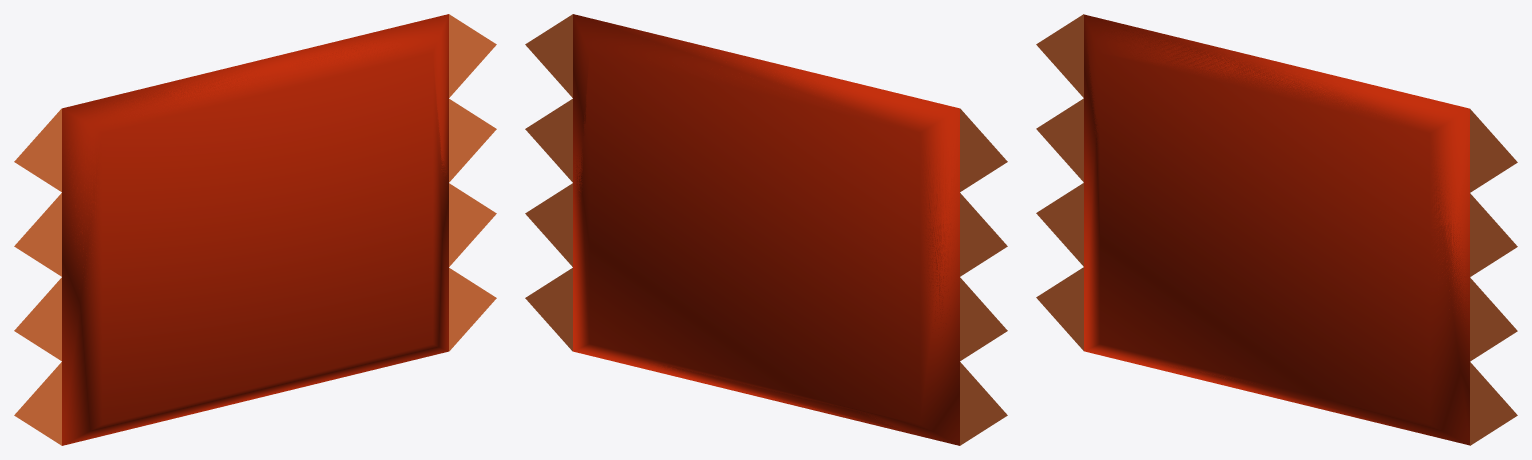
File: soup_smooth.fbx
The picture shows the model from 3 angles, left to right: view 1: azimuth 30°, elevation 25°; view 2: azimuth 150°, elevation 25°; view 3: azimuth 330°, elevation 25°; orthographic projection.
Visible parts, largest first — view 1: soup; view 2: soup; view 3: soup.
Part boxes in pixels (box(x1,y1,x2,y2)): soup: box(14, 14, 496, 445); soup: box(525, 14, 1007, 445); soup: box(1036, 14, 1517, 445).
Size of the model in its own units: 108 by 72.43 by 9.18.
